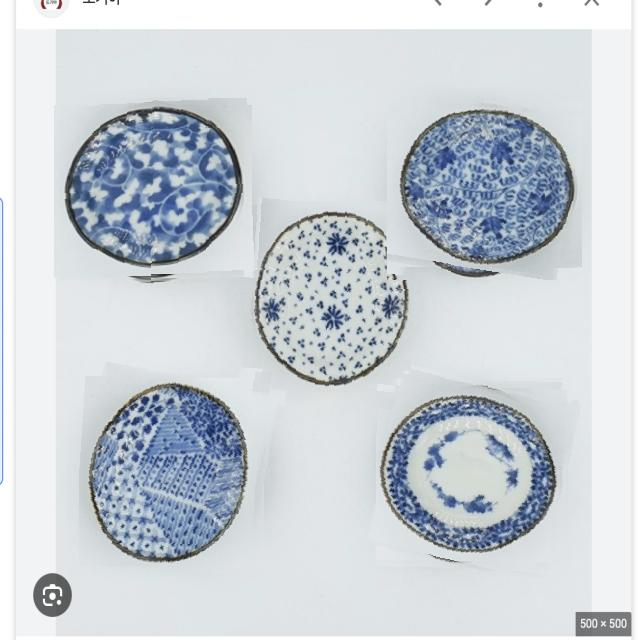recyclable: (80, 369, 272, 573), (376, 373, 573, 571), (388, 87, 582, 280), (59, 98, 247, 285), (243, 201, 411, 406)
